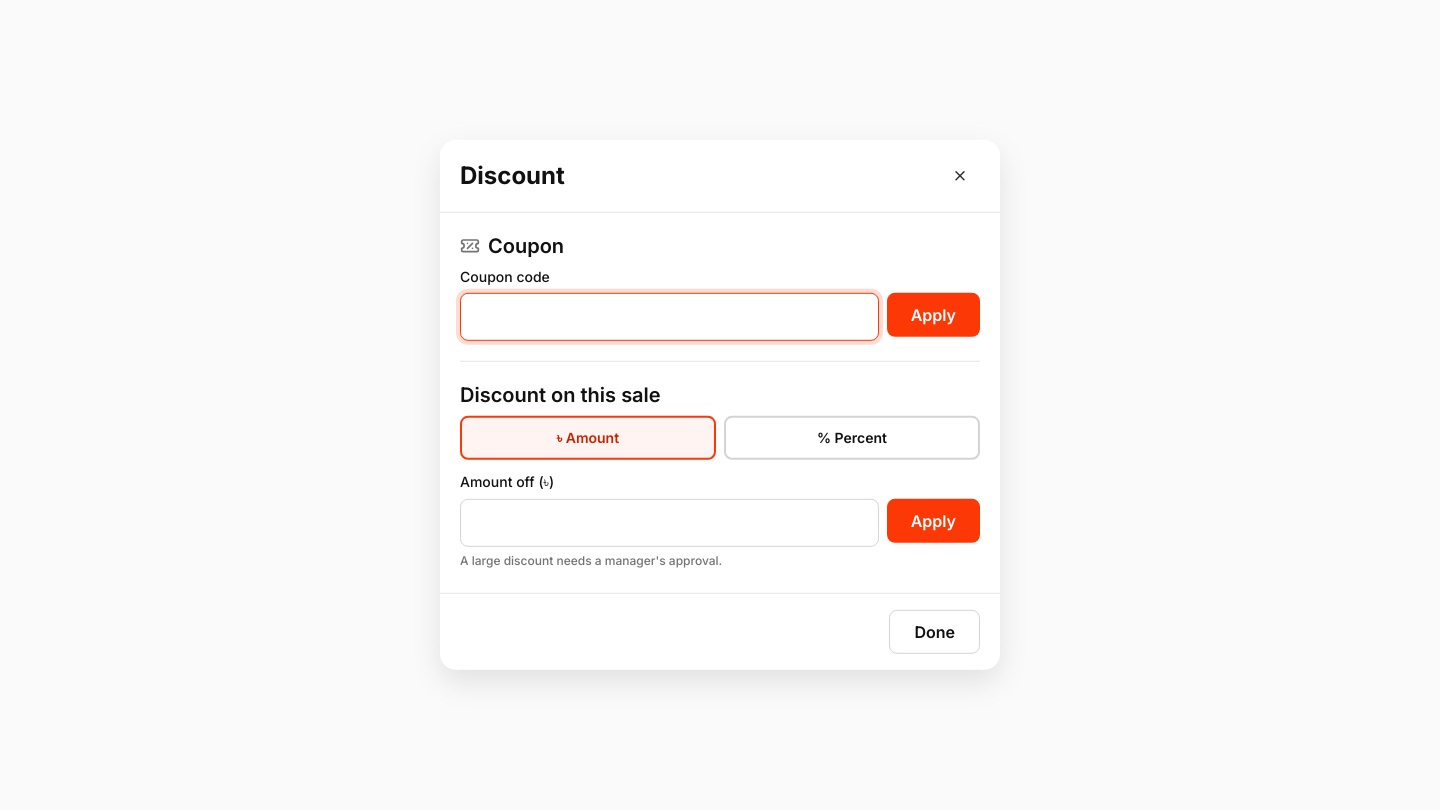
Scenario: DiscountPanel, coupons › offers to attach the customer when the coupon is one-per-customer
The width and height of the screenshot is (1440, 810).
Type "RANGON10" into the field labelled "Coupon code" at (669, 317), box [460,293,879,341]
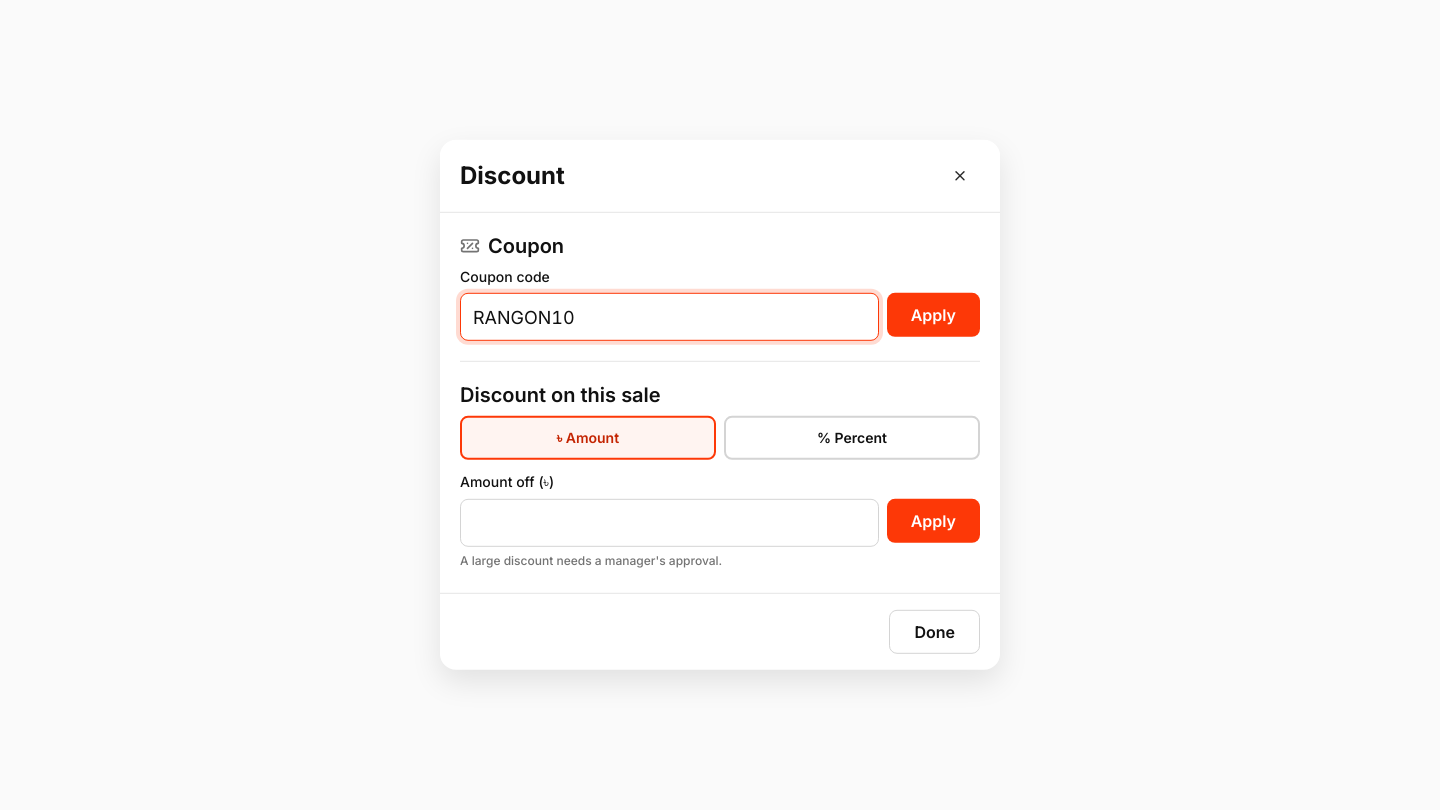
Click the 1st button "Apply" at (933, 315), box [887,293,980,337]
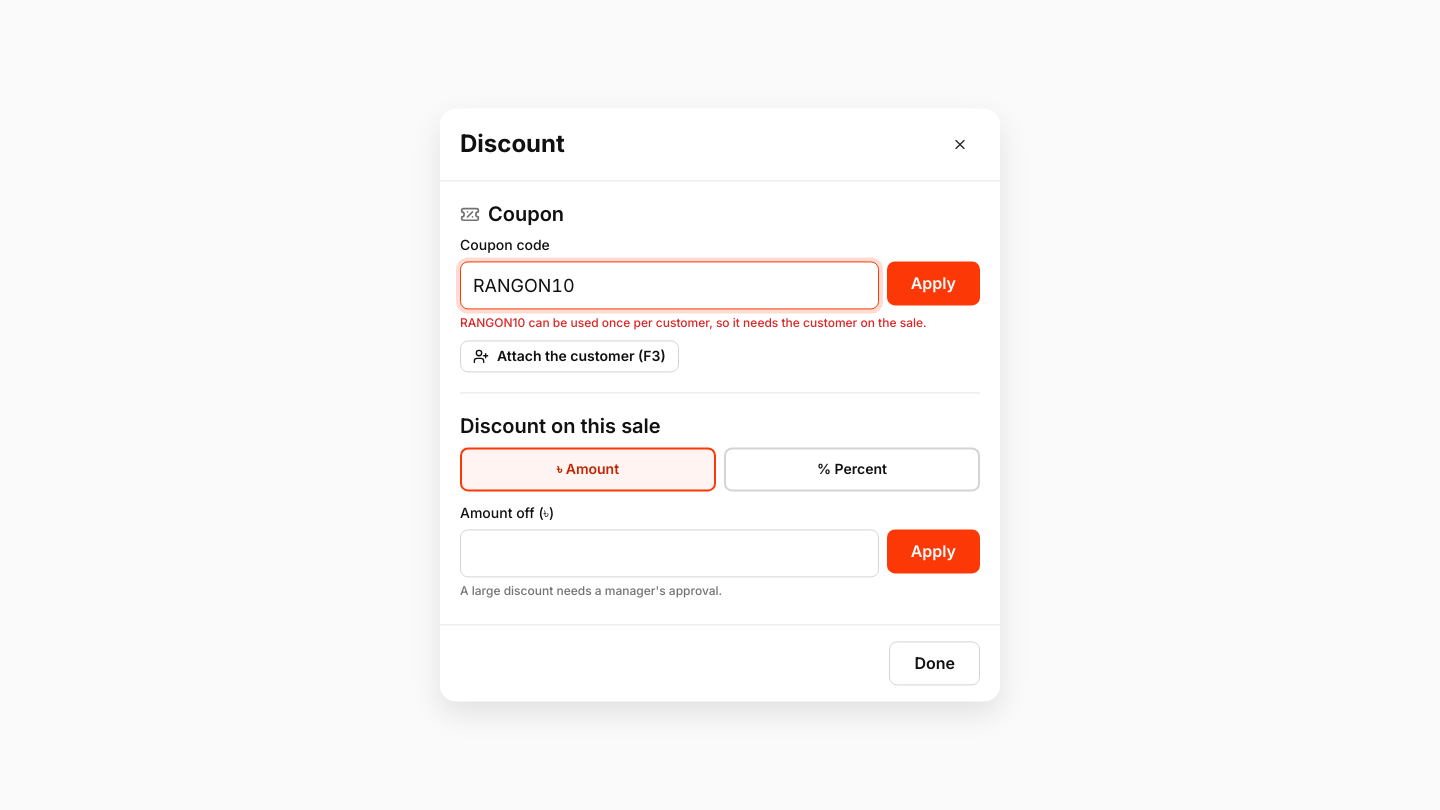
Click the button "Attach the customer (F3)" at (569, 356), box [460,340,679,372]
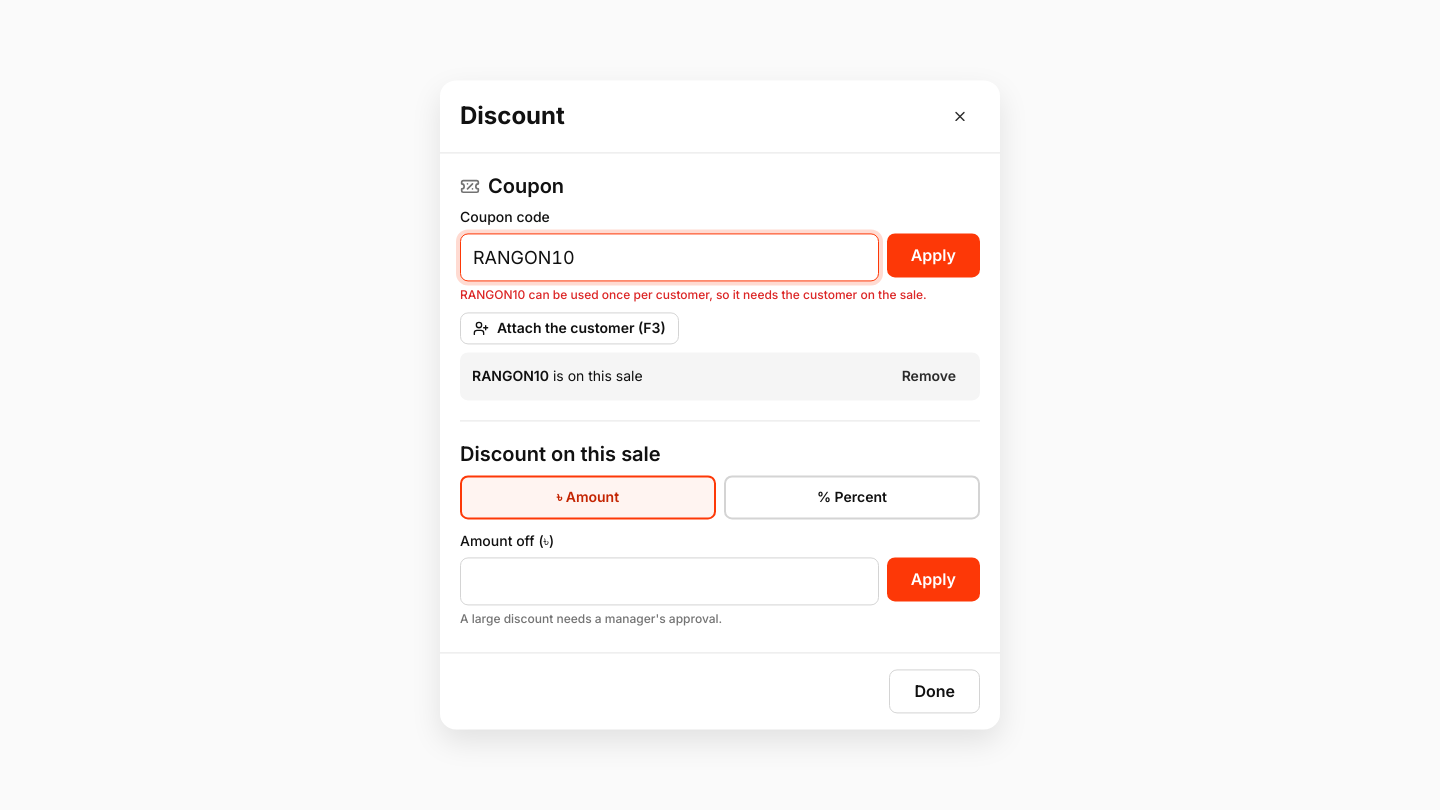
expect the text "RANGON10" is shown: met, box [472,367,549,384]
